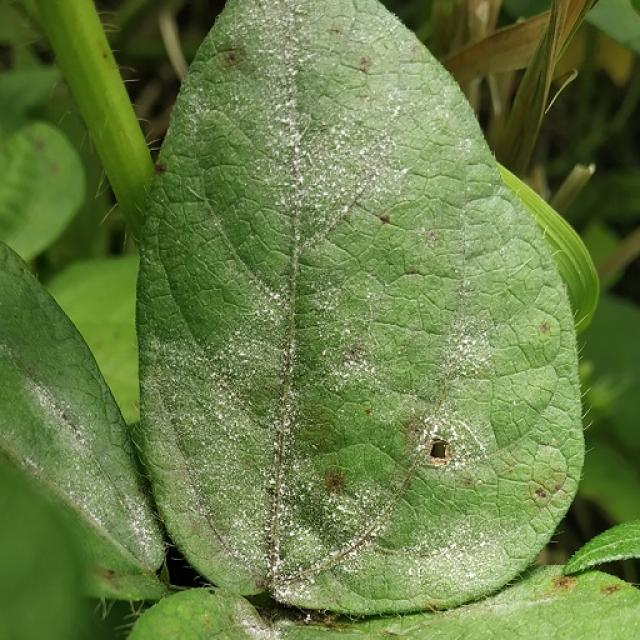Blackgram: (139, 0, 582, 612)
Powdery_Mildew: (350, 351, 517, 586), (141, 331, 276, 488), (289, 96, 389, 236), (11, 362, 115, 490), (315, 284, 403, 429), (420, 281, 495, 443), (227, 0, 343, 89), (274, 297, 302, 397), (413, 417, 463, 468), (268, 288, 283, 305), (460, 337, 471, 348)
